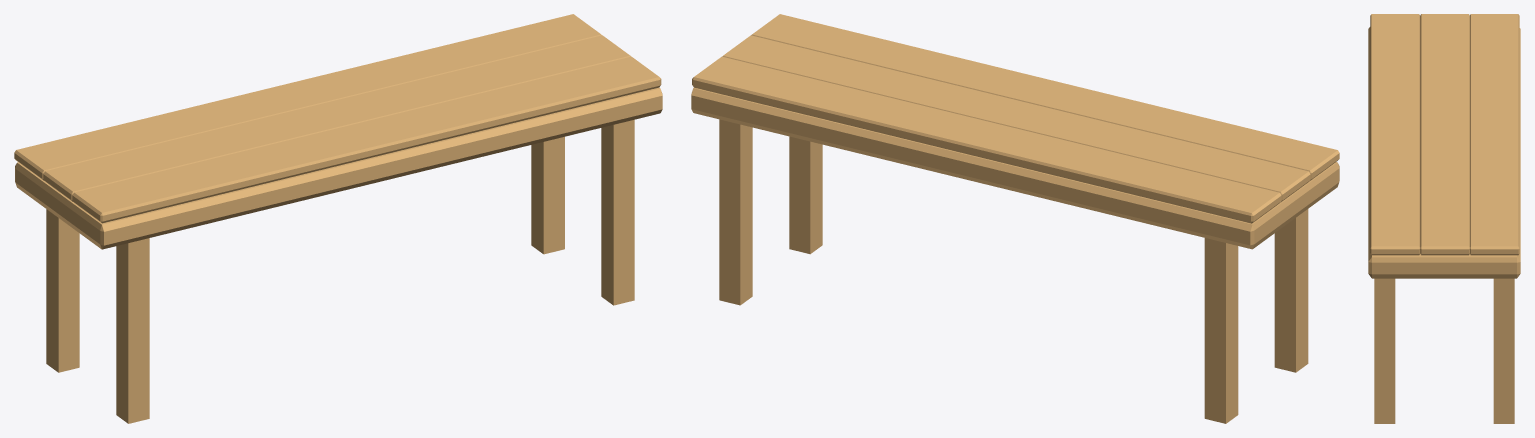
Rendered from bench.glb.
3 views of the same model, side by side, from view 1: azimuth 30°, elevation 25°; view 2: azimuth 150°, elevation 25°; view 3: azimuth 270°, elevation 25° (orthographic). The views are drawn at different scales.
Visible parts, largest first — view 1: Cube.001, Cube.003, Cube, Cube.002, Cube.006, Cube.005, Cube.004, Cube.007; view 2: Cube.002, Cube.003, Cube.001, Cube, Cube.004, Cube.007, Cube.005, Cube.006; view 3: Cube.001, Cube, Cube.002, Cube.003, Cube.006, Cube.007.
Part boxes in pixels (left/top/right/bottom): Cube.001: left=72, top=56, right=661, bottom=223; Cube.003: left=15, top=87, right=662, bottom=249; Cube: left=43, top=35, right=630, bottom=201; Cube.002: left=14, top=14, right=601, bottom=180; Cube.006: left=601, top=119, right=634, bottom=305; Cube.005: left=116, top=238, right=149, bottom=423; Cube.004: left=46, top=209, right=79, bottom=372; Cube.007: left=531, top=136, right=564, bottom=254; Cube.002: left=692, top=56, right=1281, bottom=223; Cube.003: left=691, top=87, right=1339, bottom=249; Cube.001: left=751, top=14, right=1339, bottom=180; Cube: left=722, top=35, right=1310, bottom=201; Cube.004: left=1204, top=238, right=1238, bottom=423; Cube.007: left=719, top=119, right=752, bottom=305; Cube.005: left=1274, top=209, right=1308, bottom=372; Cube.006: left=789, top=136, right=822, bottom=254; Cube.001: left=1370, top=14, right=1420, bottom=255; Cube: left=1420, top=14, right=1469, bottom=255; Cube.002: left=1470, top=14, right=1519, bottom=255; Cube.003: left=1368, top=27, right=1520, bottom=278; Cube.006: left=1374, top=278, right=1395, bottom=423; Cube.007: left=1493, top=278, right=1514, bottom=423.
Size of the model in its own units: 1.43 by 0.5322 by 0.3929.
